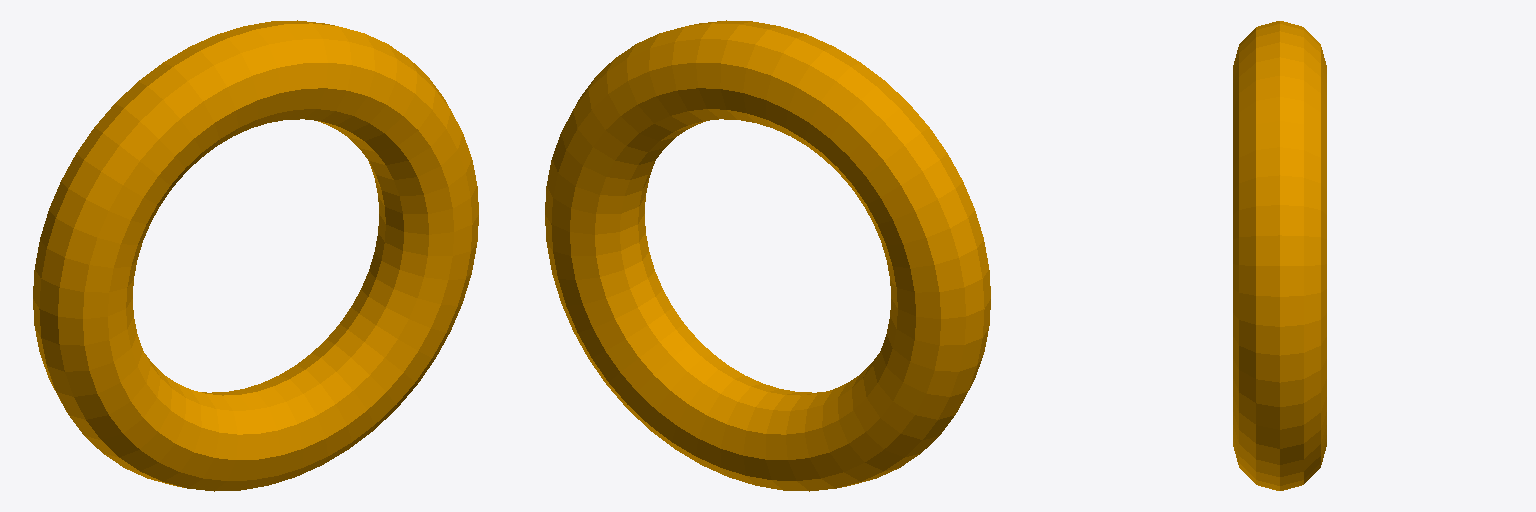
robot.urdf — cylinder:
<?xml version="1.0"?>
<robot name="cylinder">
  <link name="base_link">
    <visual>
      <geometry>
        <mesh filename="_ring.obj" scale="0.2 0.2 0.2"/>
      </geometry>
    </visual>
    <collision>
      <geometry>
        <mesh filename="_ring.obj" scale="0.2 0.2 0.2"/>
      </geometry>
    </collision>
  </link>
</robot>

--- What the picture shows (computed from the rendered views, not written in the file) ---
The picture shows the robot from 3 angles, left to right: view 1: azimuth 30°, elevation 25°; view 2: azimuth 150°, elevation 25°; view 3: azimuth 270°, elevation 25°; orthographic projection.
Robot: cylinder — 1 links, 0 joints (none); root link base_link; default pose: every joint at zero.
Links seen in each view (by area): view 1: base_link; view 2: base_link; view 3: base_link.
Link boxes in pixels (bbox=[...]): base_link: bbox=[33, 20, 478, 491]; base_link: bbox=[545, 20, 990, 491]; base_link: bbox=[1233, 21, 1326, 490].
Size in the robot's own frame: 0.5 by 0.1 by 0.5 metres.
Meshes: 1 distinct files referenced, 1 mesh visuals loaded (1 OBJ).